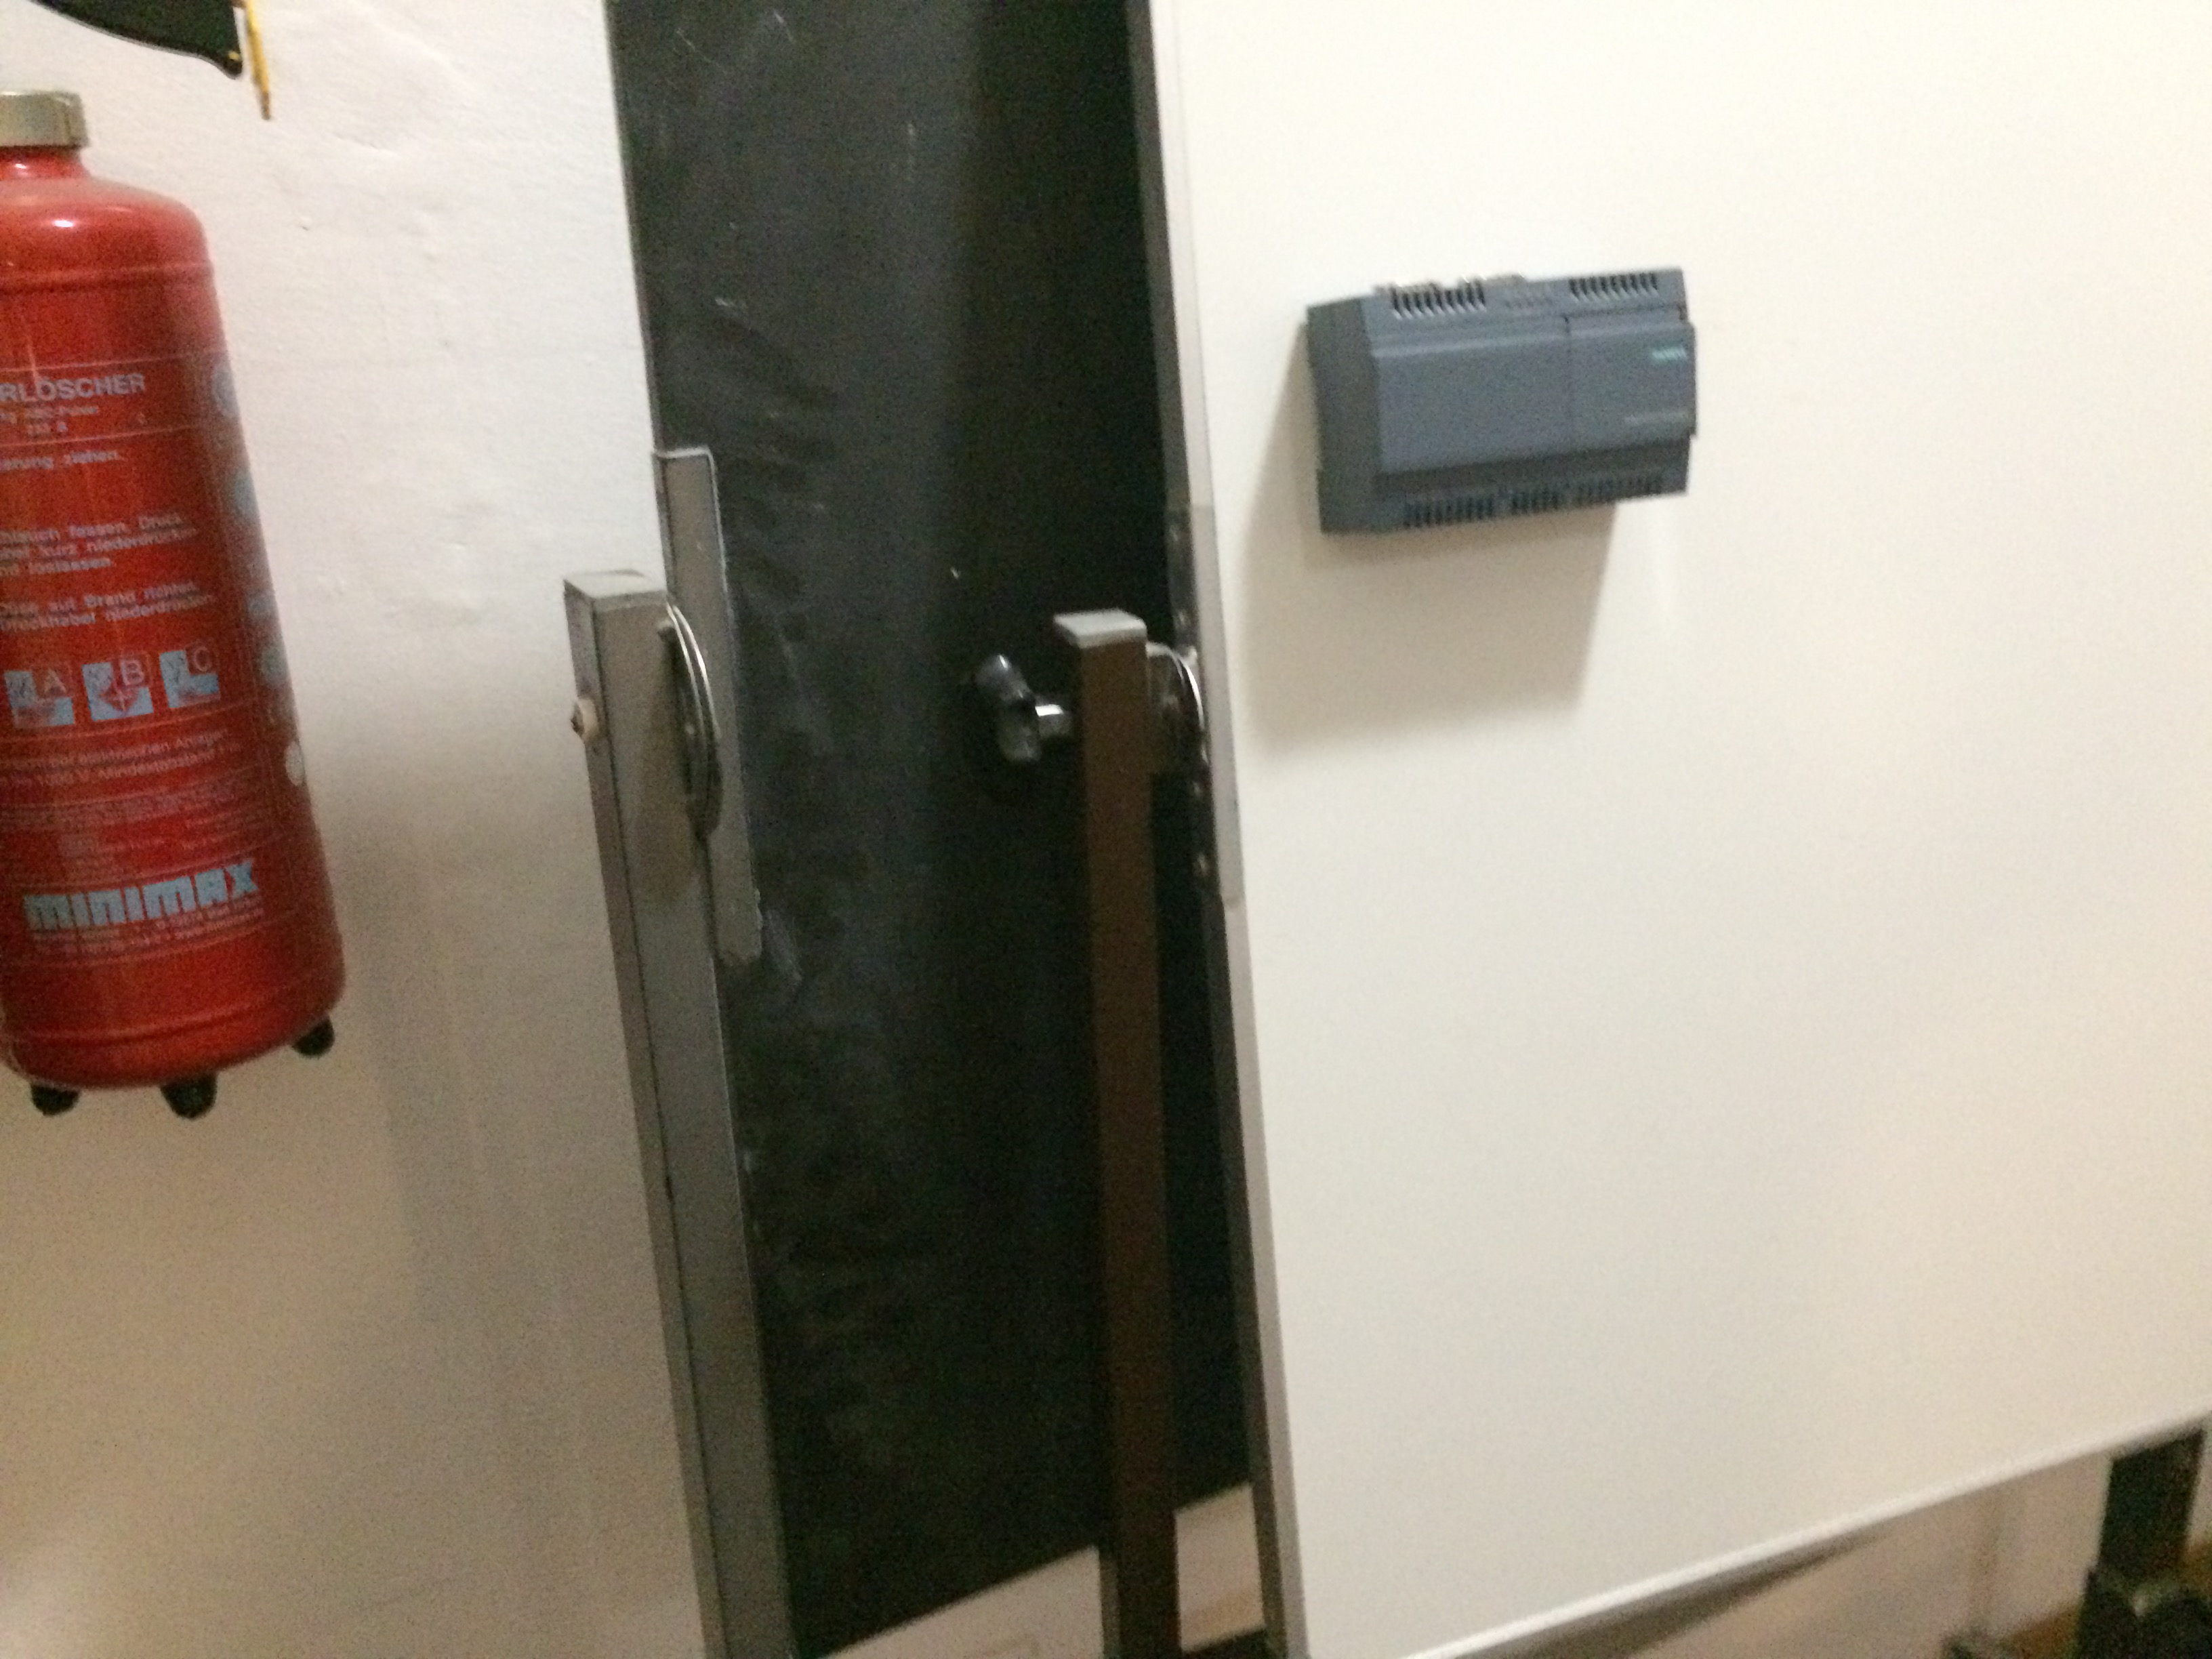iot2000: (1305, 263, 1702, 544)
